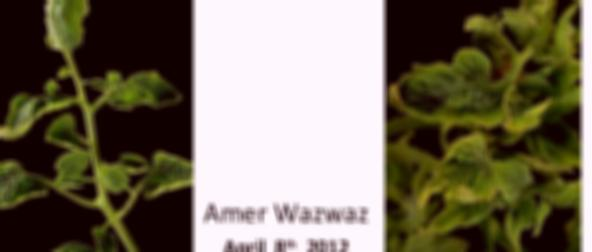Tomato leaf yellow virus: (412, 134, 527, 211), (394, 48, 509, 124), (99, 62, 188, 108), (0, 86, 71, 139), (41, 0, 90, 60)
